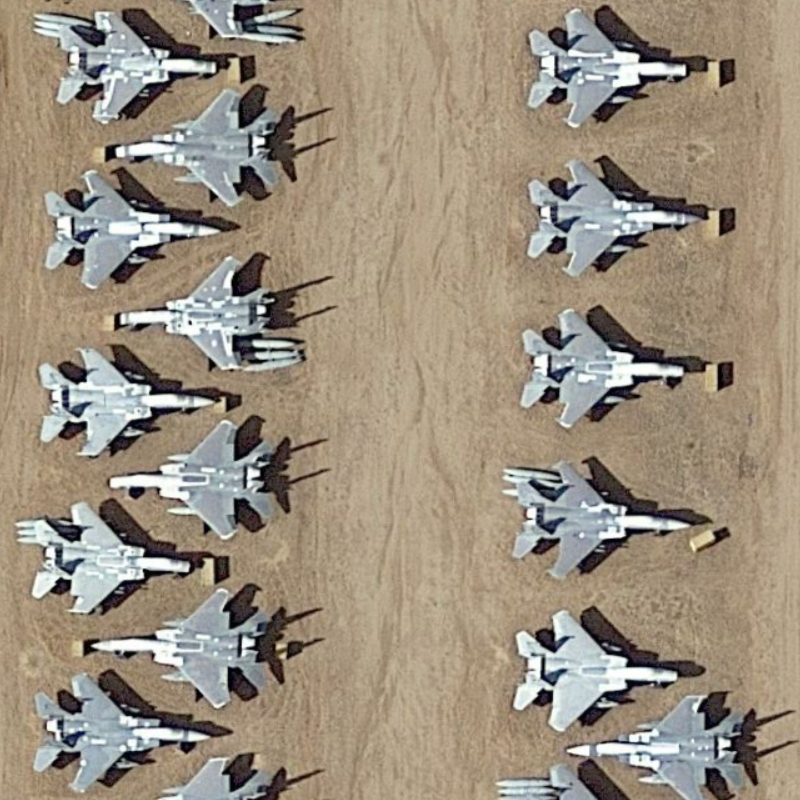A13: (89, 583, 297, 715), (32, 163, 231, 294), (104, 83, 299, 211), (114, 252, 306, 382), (26, 666, 218, 796), (504, 603, 691, 735), (513, 450, 696, 582), (106, 414, 291, 544), (30, 337, 221, 462), (563, 684, 768, 800), (509, 302, 687, 431), (523, 153, 705, 278), (515, 5, 692, 132), (30, 488, 195, 621), (54, 7, 220, 128)
